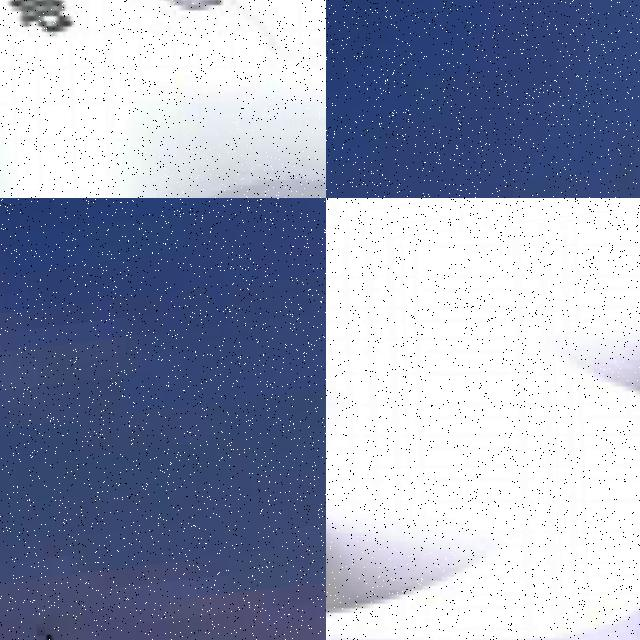drone: (326, 198, 640, 640), (0, 0, 326, 198)
